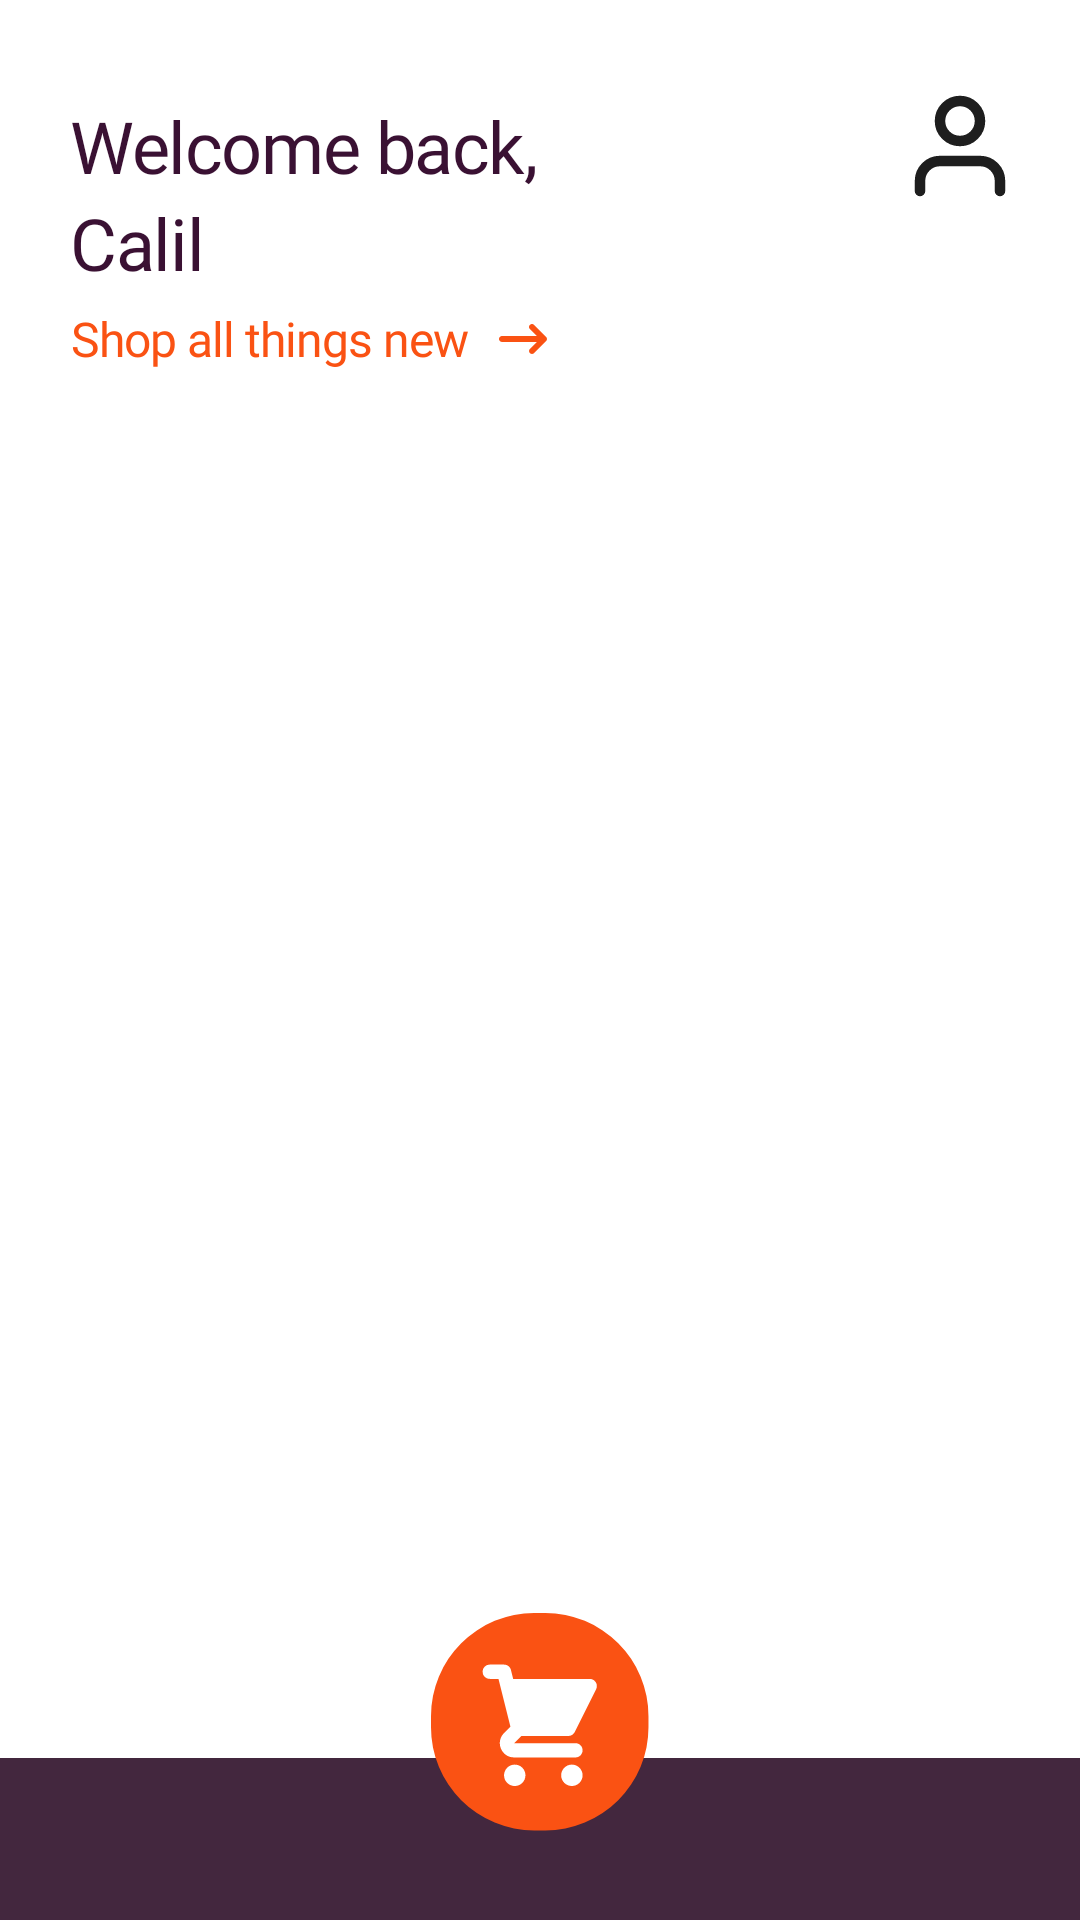

Where to tap for icons on this 1080w x 1920h app screen, as [x,y]:
buyer account: [960,146]
buyer cart: [540,1722]
right arrow: [523,339]
